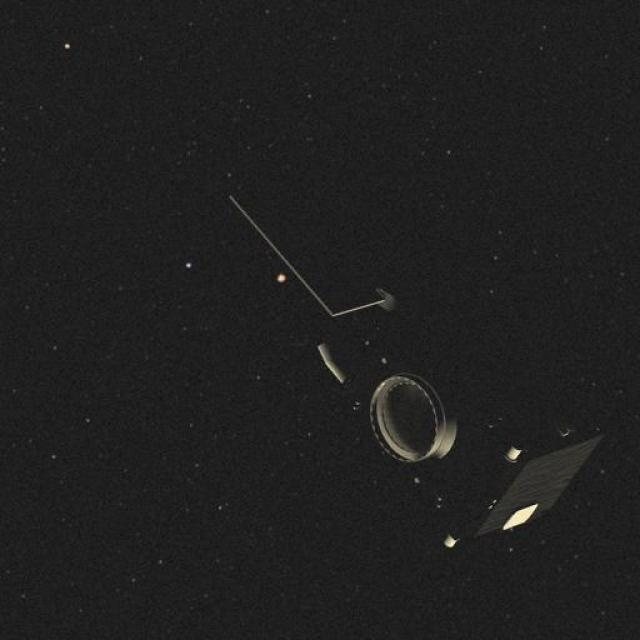proba_3_csc: (222, 156, 600, 548)
